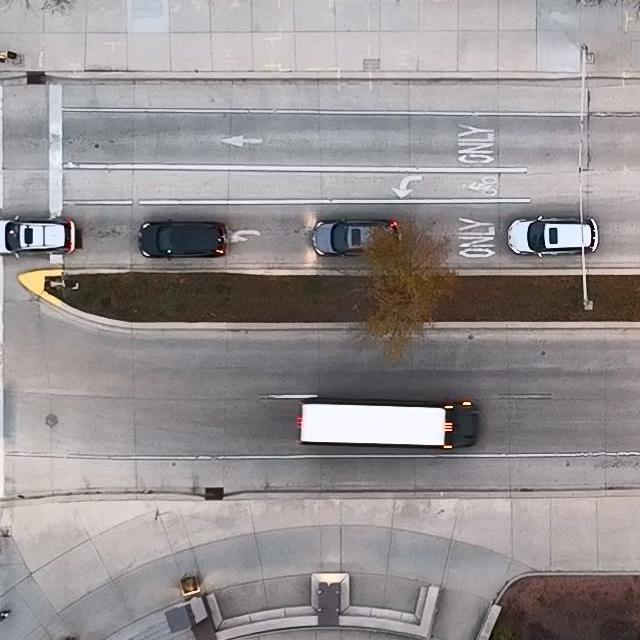car: (297, 399, 479, 450), (507, 216, 599, 258), (138, 218, 228, 260), (311, 217, 401, 256), (0, 215, 76, 260)
